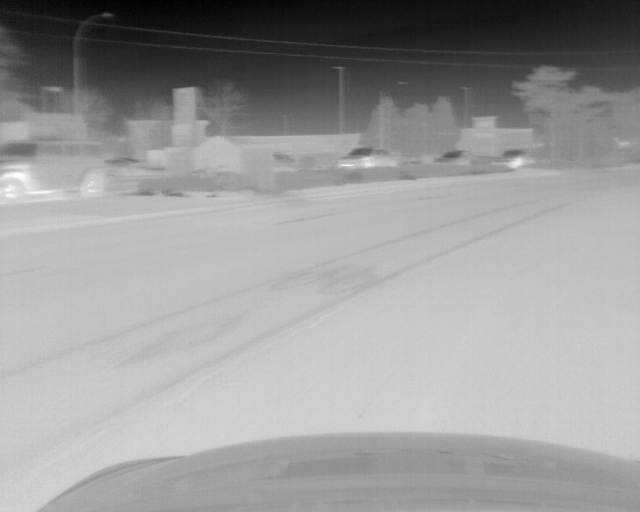car: (1, 138, 107, 201), (335, 146, 397, 168), (434, 149, 475, 166), (493, 147, 525, 165)
